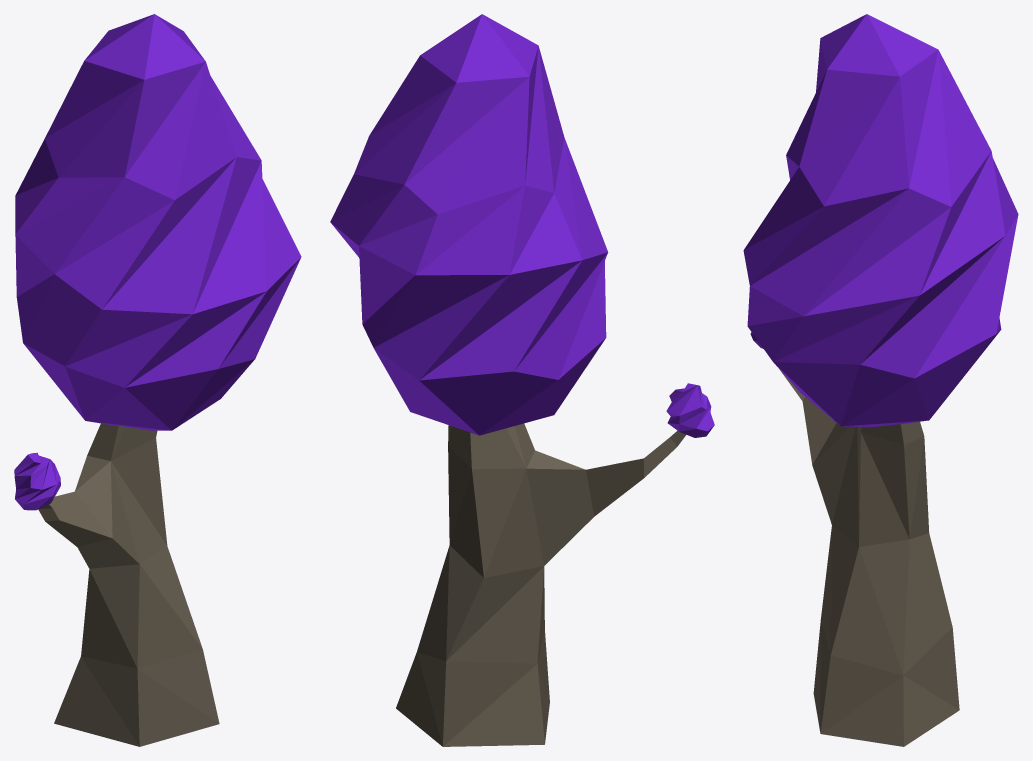
Rendered from PurpleTree02.fbx.
The picture shows the model from 3 angles, left to right: view 1: azimuth 30°, elevation 25°; view 2: azimuth 150°, elevation 25°; view 3: azimuth 270°, elevation 25°; orthographic projection.
Visible parts, largest first — view 1: TreeBush02, Tree02, TreeBush03; view 2: TreeBush02, Tree02, TreeBush03; view 3: TreeBush02, Tree02.
Part boxes in pixels (x1,y1,x2,y2): TreeBush02: [15, 14, 301, 430]; Tree02: [38, 423, 219, 746]; TreeBush03: [14, 452, 60, 510]; TreeBush02: [330, 14, 608, 435]; Tree02: [396, 423, 685, 746]; TreeBush03: [666, 383, 714, 437]; TreeBush02: [743, 14, 1018, 427]; Tree02: [780, 370, 959, 746].
Size of the model in its own units: 527 by 1140 by 406.
